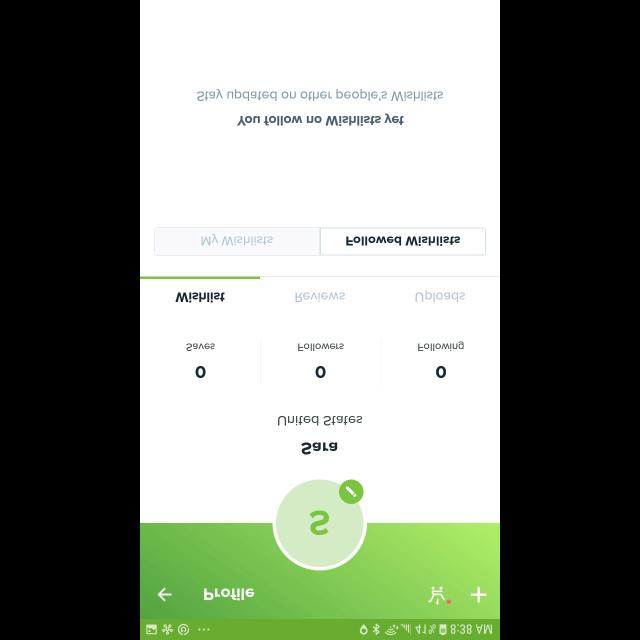icon: (340, 480, 364, 504), (428, 586, 452, 604), (471, 586, 487, 602), (158, 587, 172, 601)
image: (272, 480, 368, 570)
text: (197, 88, 443, 102), (236, 114, 404, 126), (278, 415, 362, 425), (204, 588, 256, 600), (415, 290, 465, 302), (177, 292, 226, 304), (295, 292, 345, 302), (418, 341, 464, 351), (302, 442, 338, 454), (298, 343, 344, 351), (187, 343, 215, 351), (316, 366, 326, 378), (436, 366, 446, 378), (196, 366, 206, 378)
textbutton: (155, 227, 321, 255), (320, 227, 486, 255)
uppertaskbar: (140, 618, 500, 640)
